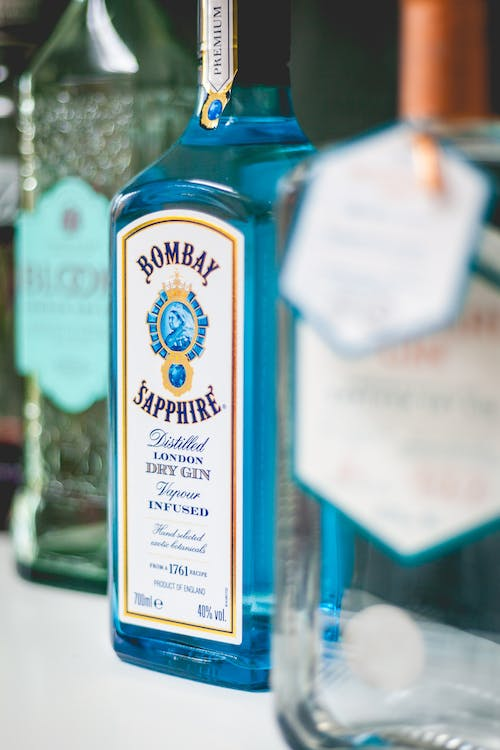alcohol: (270, 0, 500, 750), (107, 0, 323, 695), (10, 0, 198, 597)
